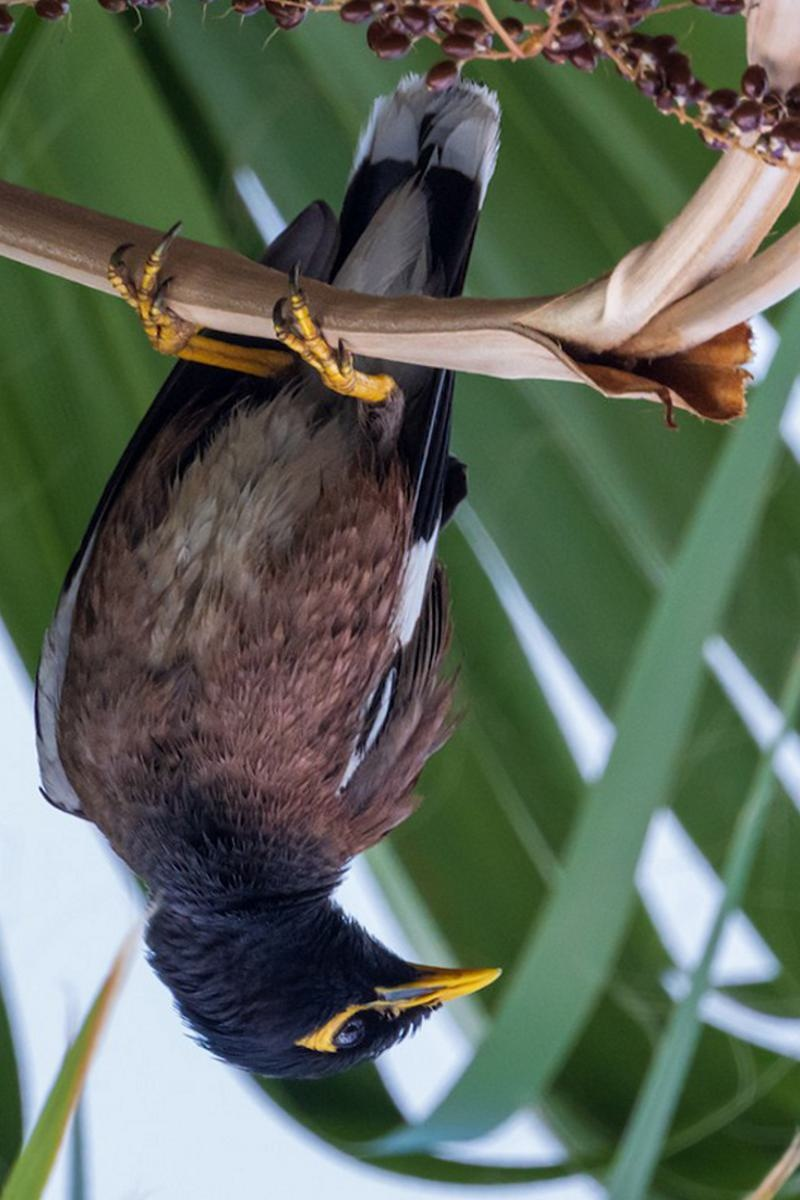myna: (72, 122, 594, 1092)
